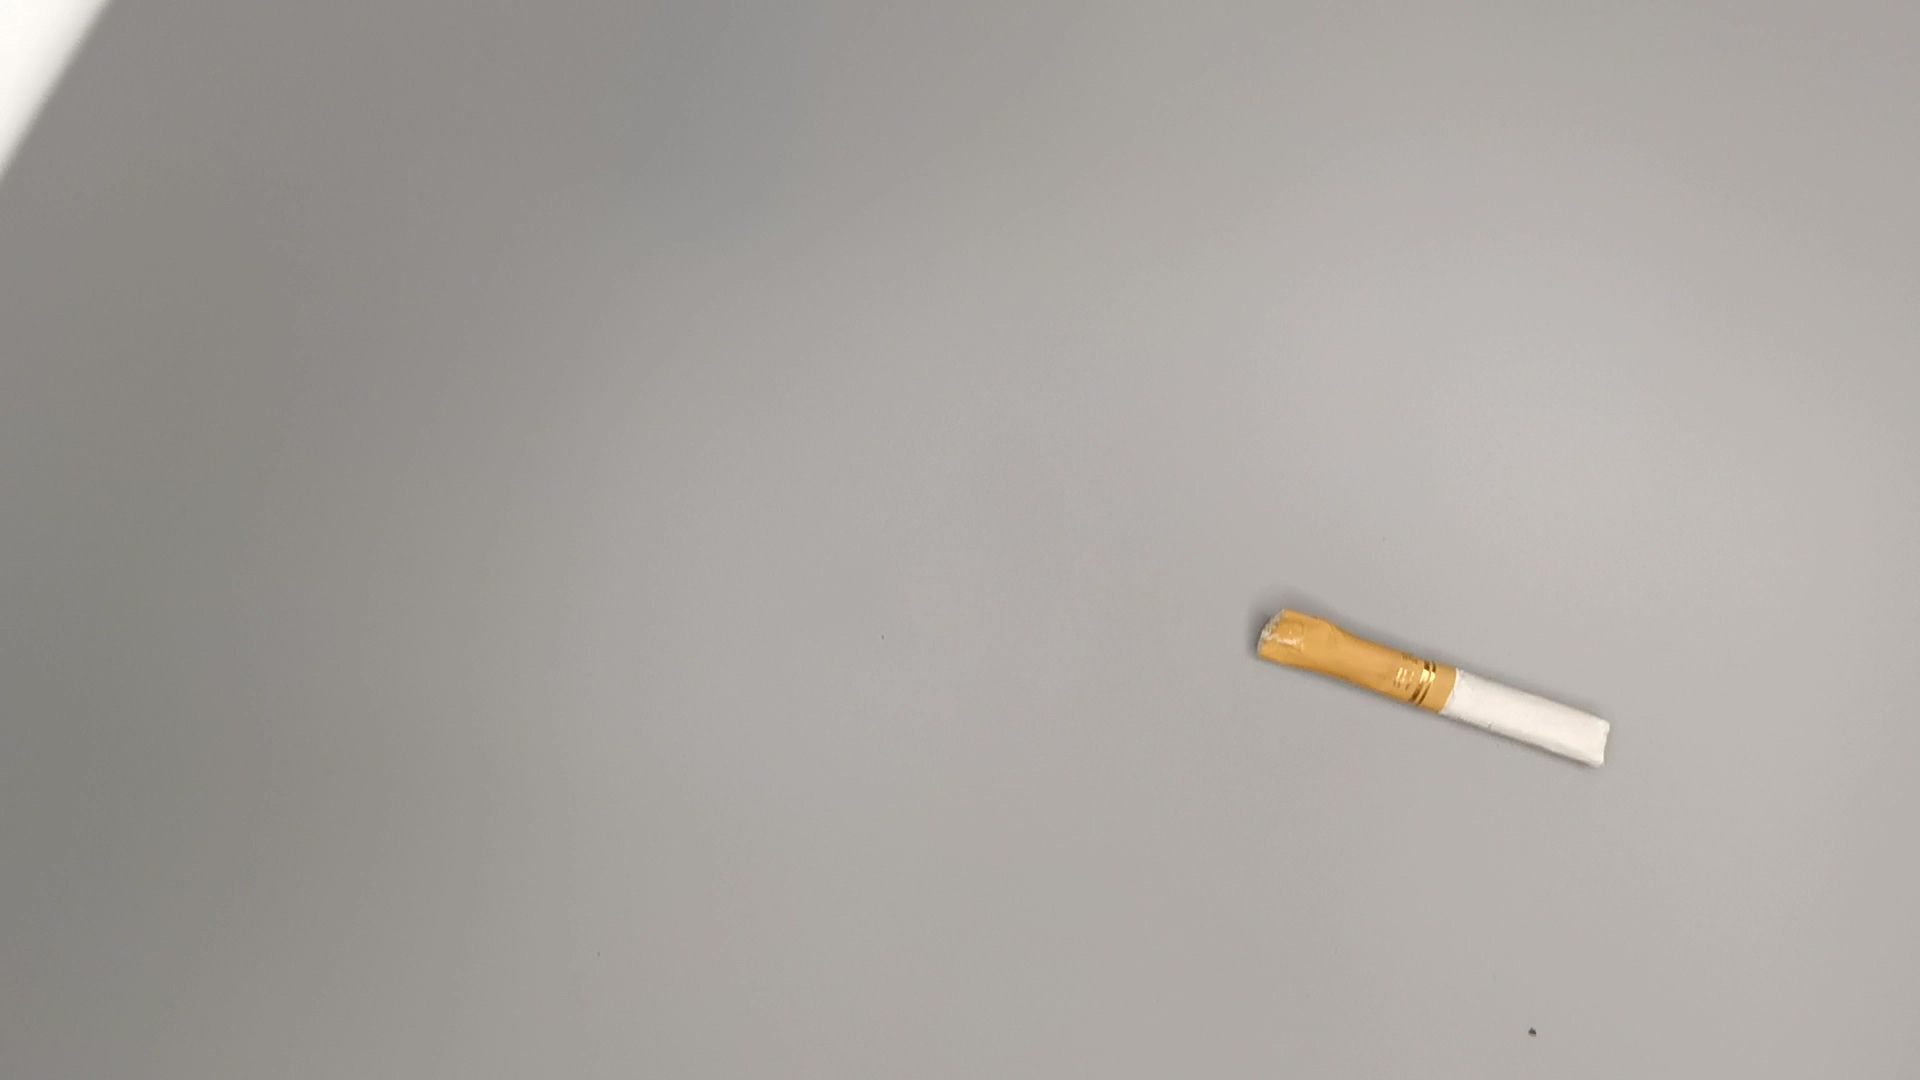cigarette: (1247, 605, 1625, 778)
